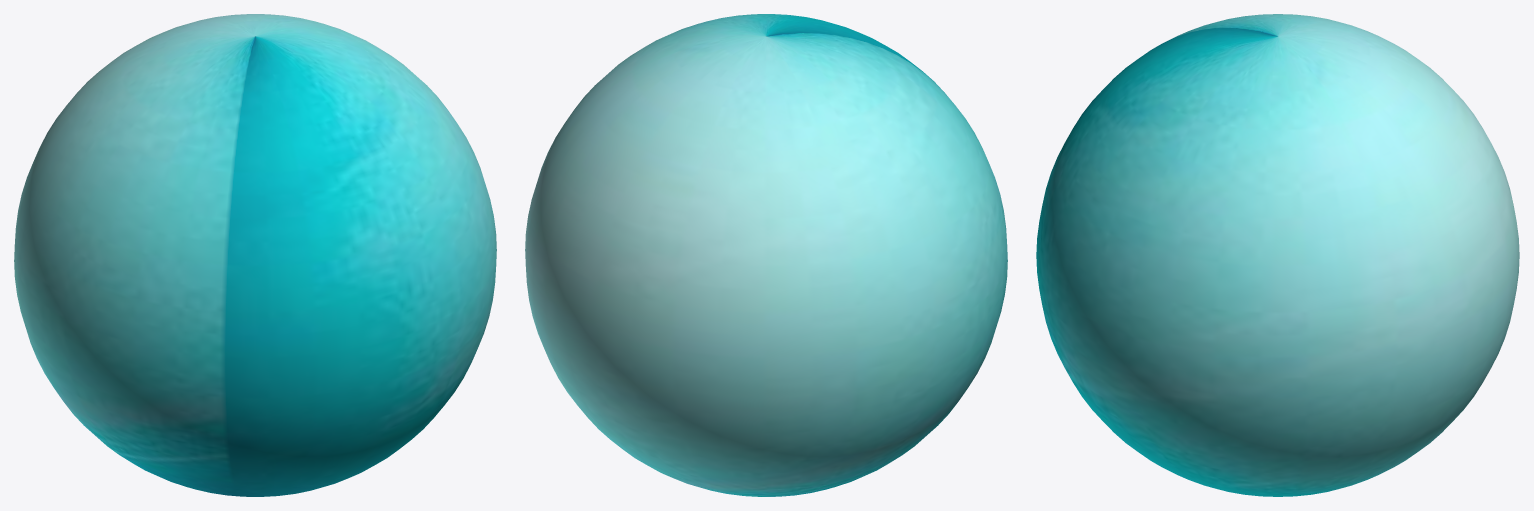
Rendered from uranus.glb.
3 renders of one model, left to right at view 1: azimuth 30°, elevation 25°; view 2: azimuth 150°, elevation 25°; view 3: azimuth 270°, elevation 25°, orthographic.
Visible parts, largest first — view 1: sun_GEO 2; view 2: sun_GEO 2; view 3: sun_GEO 2.
Part boxes in pixels (box(x1,y1,x2,y2)): sun_GEO 2: box(14, 14, 496, 496); sun_GEO 2: box(525, 14, 1007, 496); sun_GEO 2: box(1036, 14, 1519, 496).
Bounding box in the file's own units: 0.297 × 0.297 × 0.297.
1 material, 1 textured.
